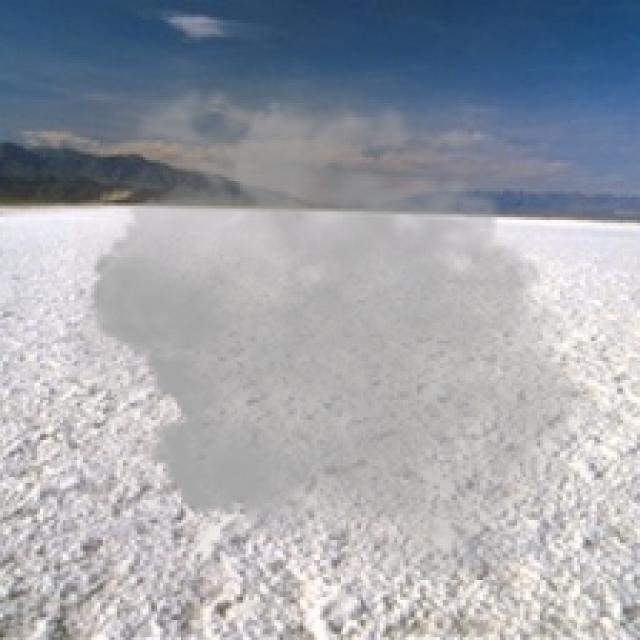smoke: (74, 72, 620, 597)
